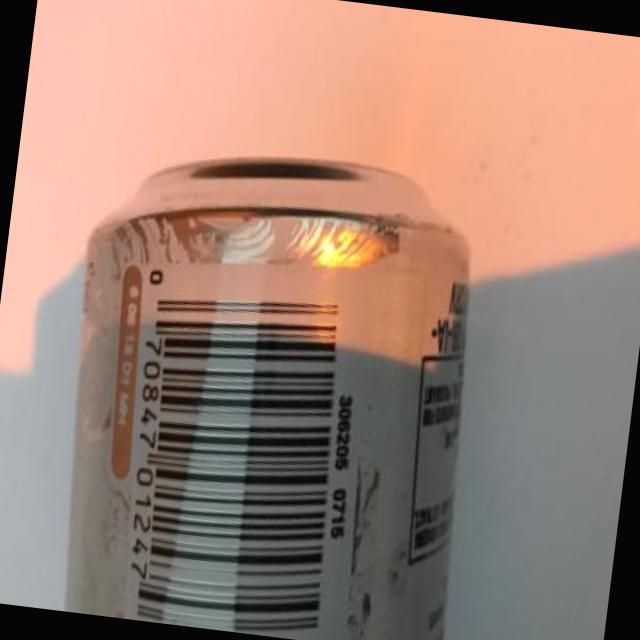nhom: (60, 155, 471, 640)
